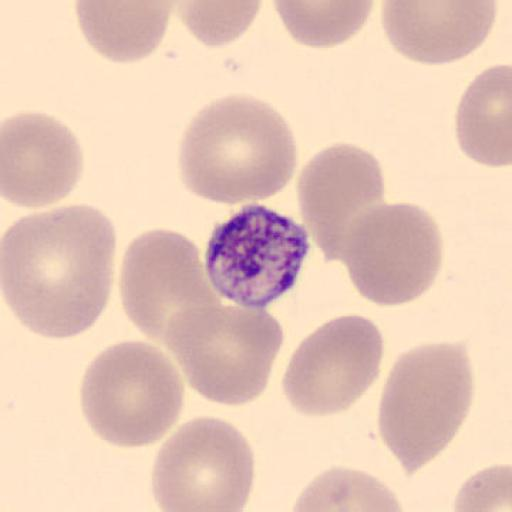Platelet: (202, 201, 313, 308)
RBC: (0, 203, 117, 343), (176, 92, 299, 207), (161, 299, 286, 409), (377, 340, 475, 478), (117, 226, 221, 342), (78, 338, 186, 449), (296, 140, 387, 263), (340, 200, 444, 306), (282, 313, 386, 419), (148, 413, 256, 512), (2, 108, 85, 208), (380, 0, 498, 66), (73, 0, 177, 65), (453, 62, 512, 168), (288, 464, 406, 512), (272, 0, 377, 49), (173, 0, 264, 49), (451, 462, 511, 512)
